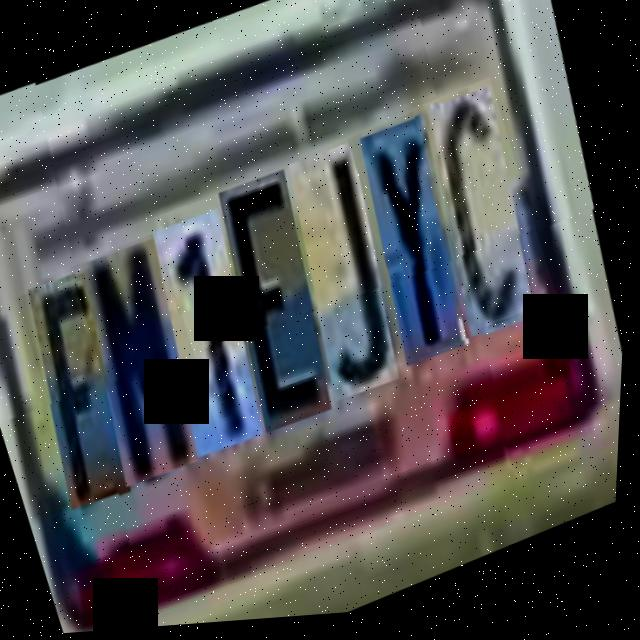1: (134, 201, 299, 461)
C: (406, 80, 569, 342)
E: (198, 162, 368, 438)
F: (12, 264, 167, 515)
J: (267, 135, 436, 406)
M: (64, 230, 235, 490)
Y: (341, 109, 504, 371)
